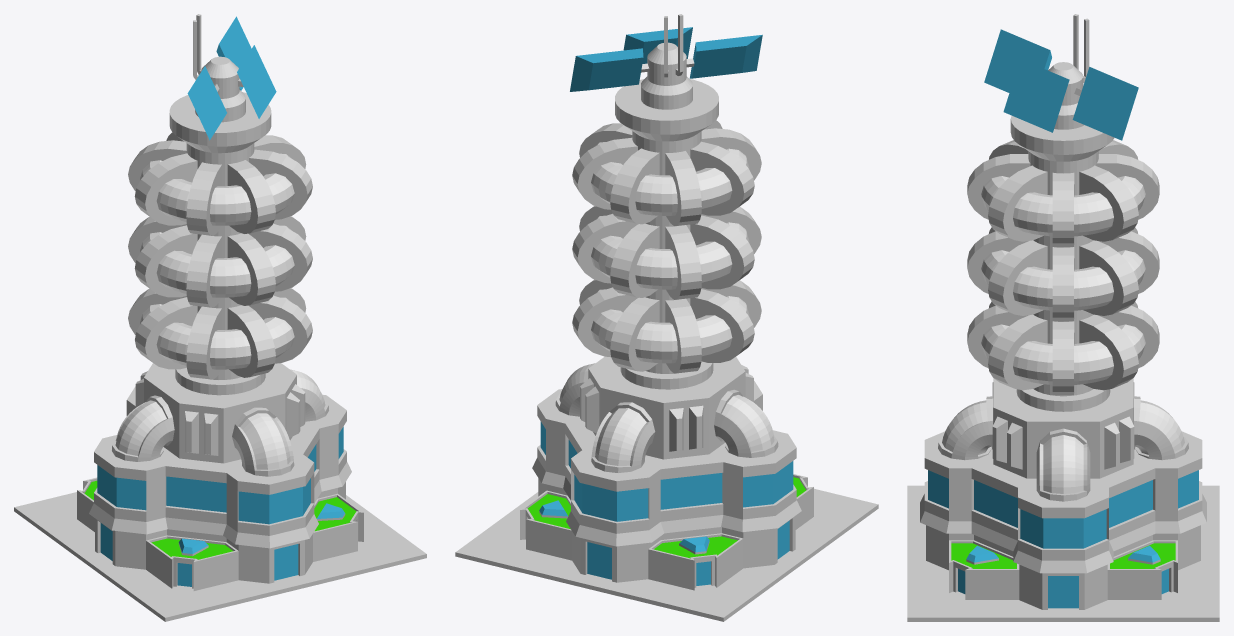
Rendered from Chroma Skyscraper N.fbx.
3 views of the same model, side by side, from view 1: azimuth 30°, elevation 25°; view 2: azimuth 150°, elevation 25°; view 3: azimuth 270°, elevation 25° (orthographic). The views are drawn at different scales.
Visible parts, largest first — view 1: Torus, Ground; view 2: Torus, Ground; view 3: Torus, Ground.
Boxes of the visible parts, x1,y1,x2,y2 form: Torus: (77,14,363,590); Ground: (14,492,426,621); Torus: (520,14,813,590); Ground: (455,488,878,621); Torus: (920,14,1206,609); Ground: (907,485,1219,621).
Bounding box in the file's own units: 1000 × 1877 × 1000.
